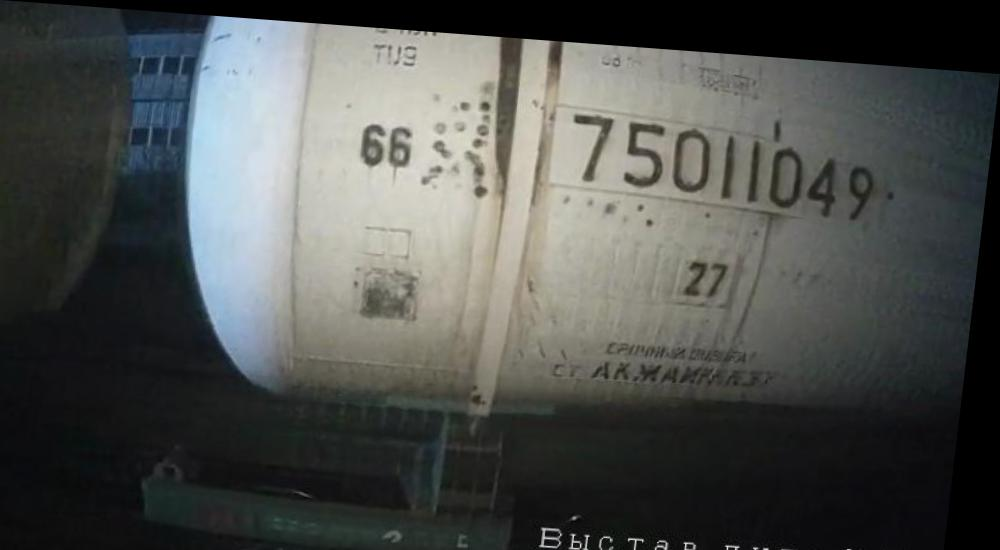Wagon-number: (562, 98, 888, 210)
